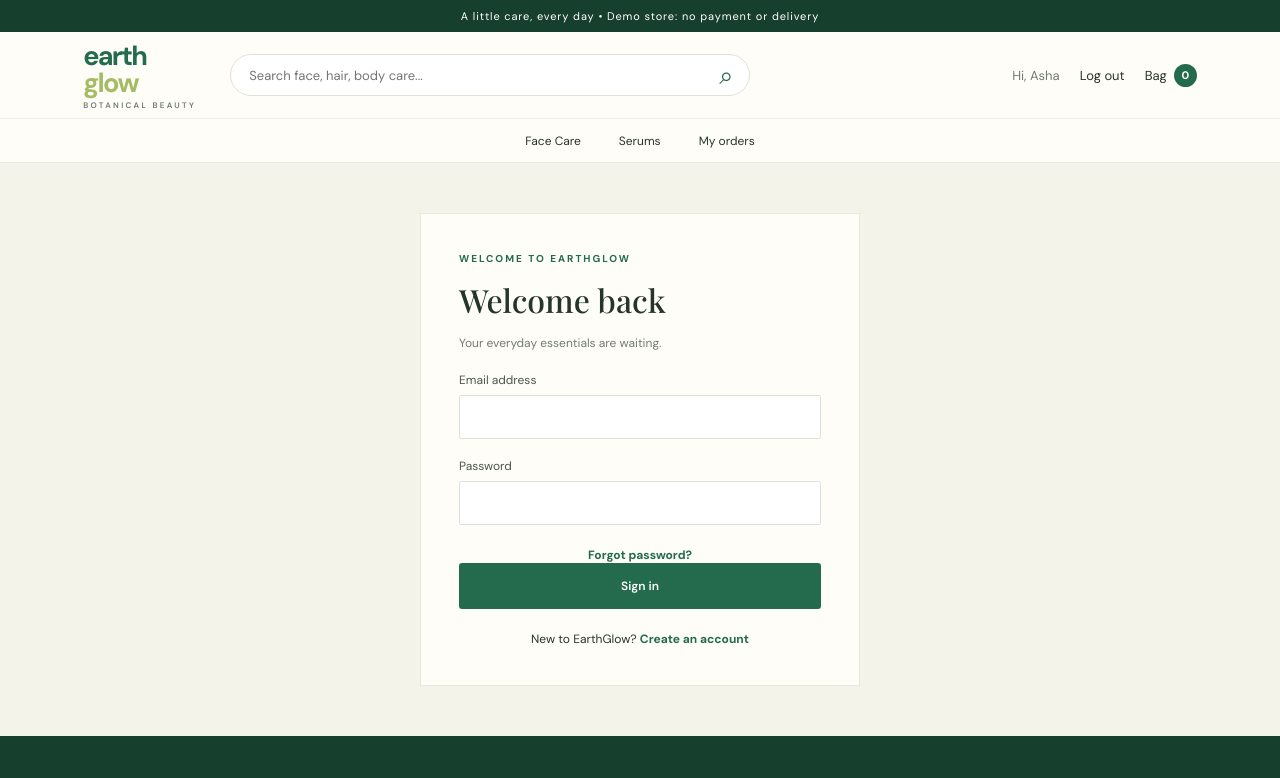
Test: expired sessions › does not end a valid session when a sign-in attempt fails
In the field labelled "Email address": (640, 417) [459,395,821,439], type "asha@test.dev"
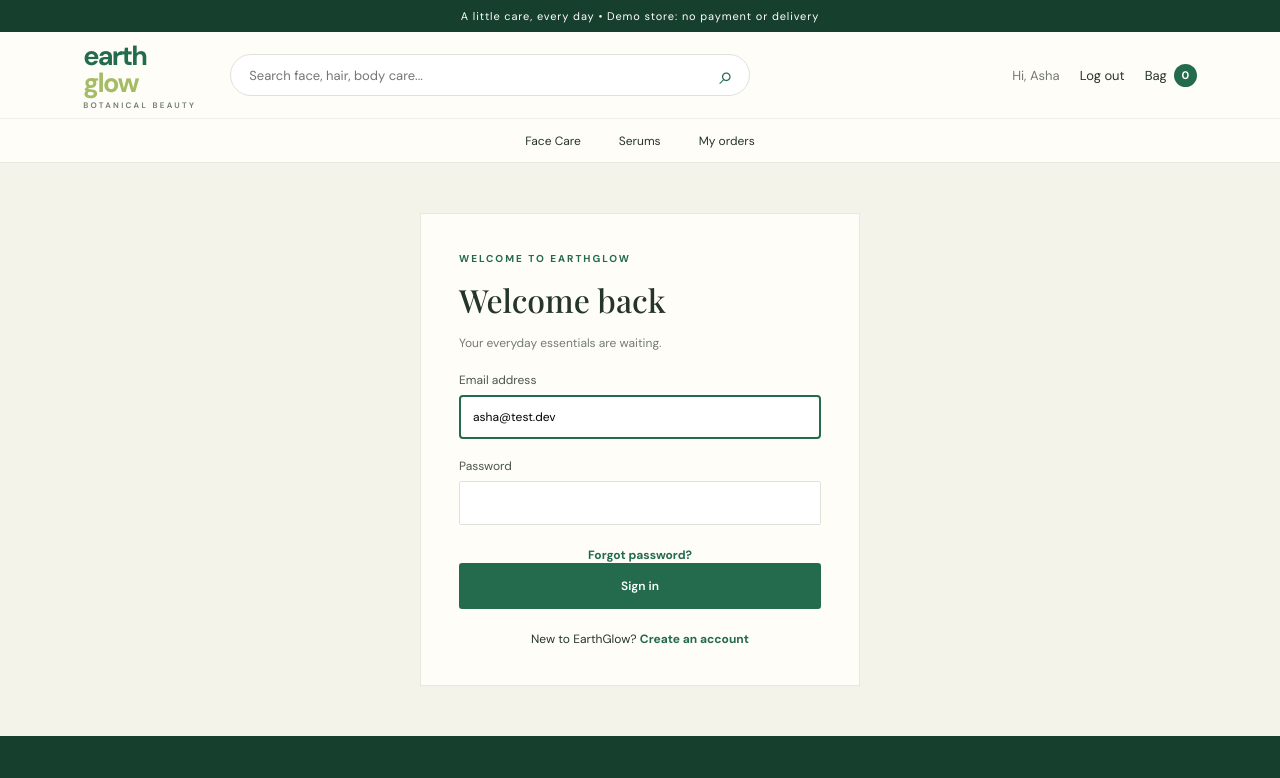
In the password field labelled "Password": (640, 503) [459,481,821,525], type "wrong-password"
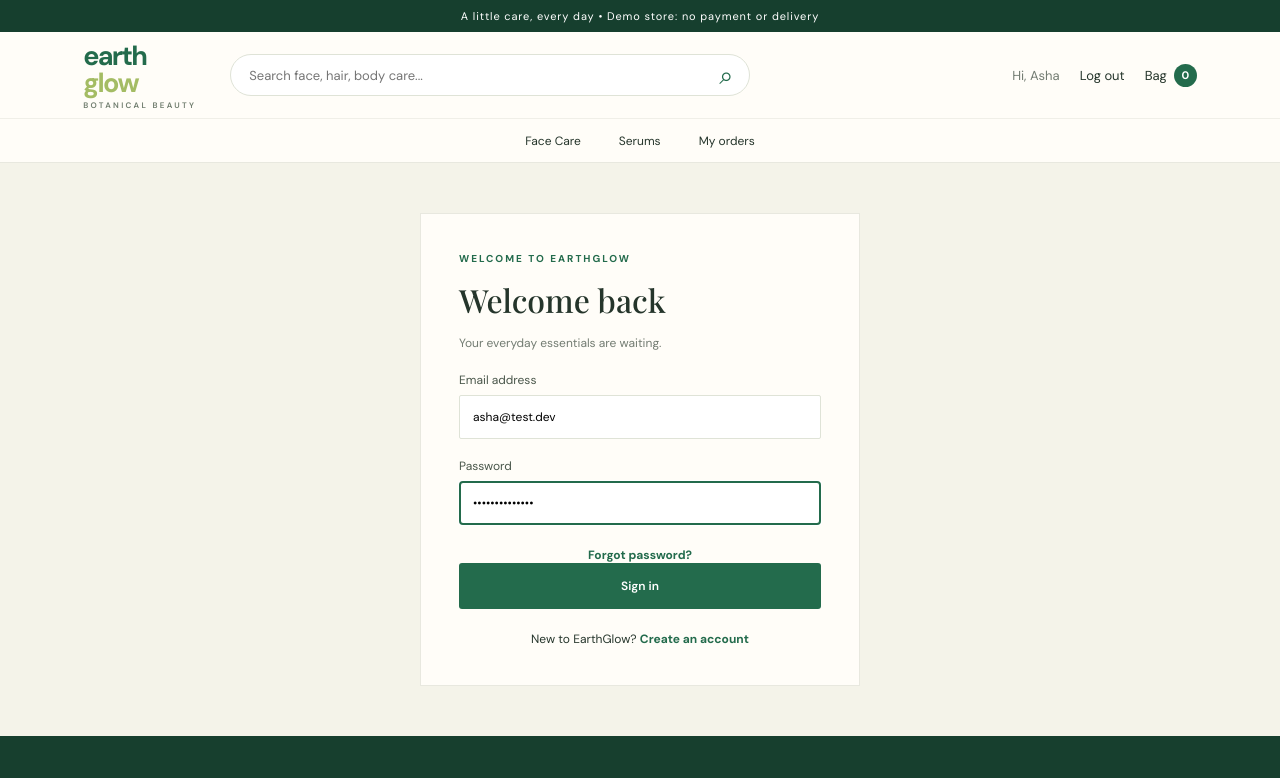
Click the button "Sign in": (640, 586) [459,563,821,609]
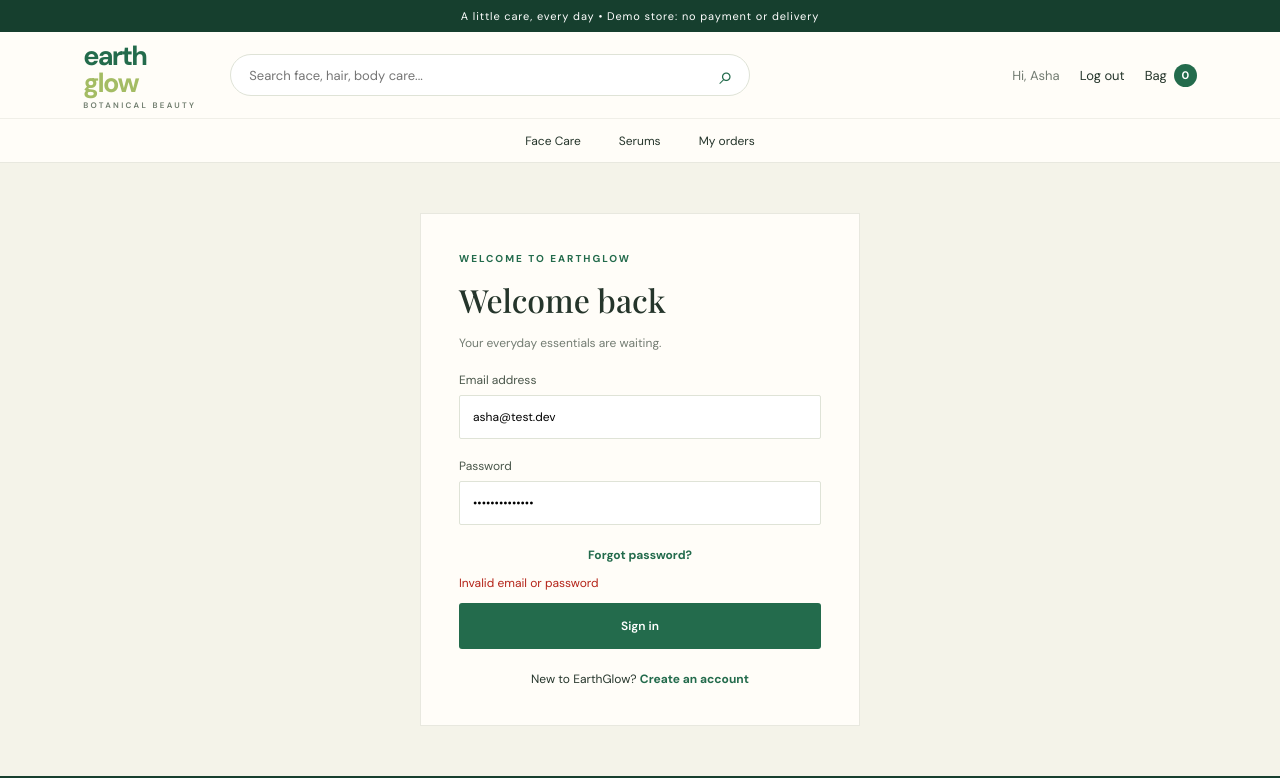
Check: the text "Hi, Asha" is shown, box [1012,66,1060,84]
Check: the message reads "Invalid email or password", box [459,575,599,591]
